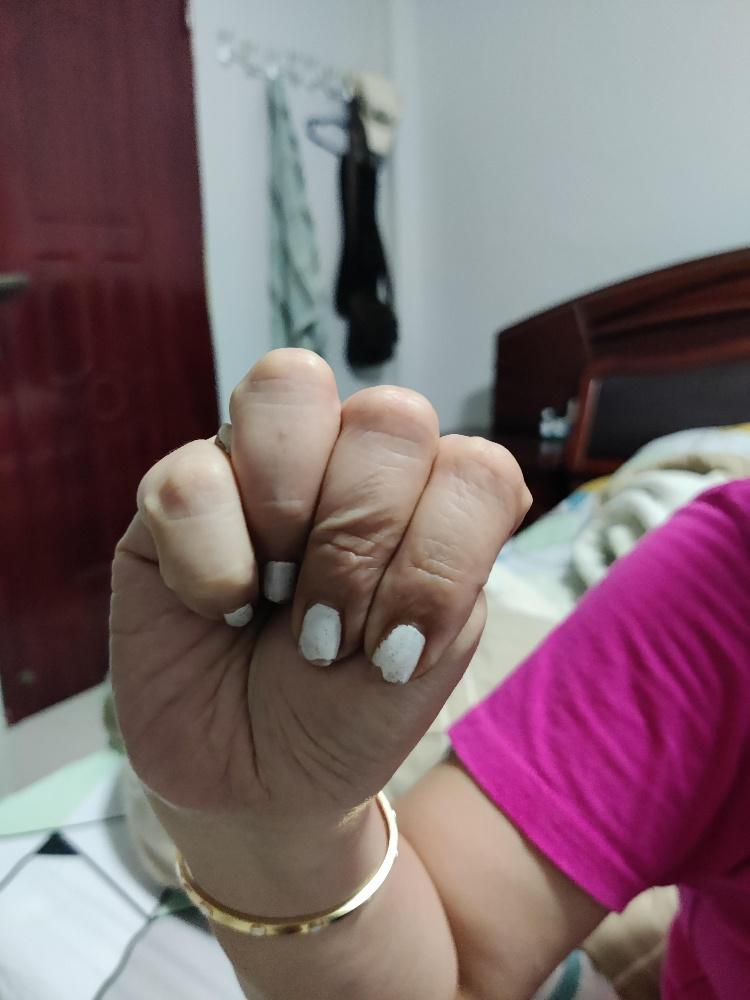m: (105, 344, 536, 816)
